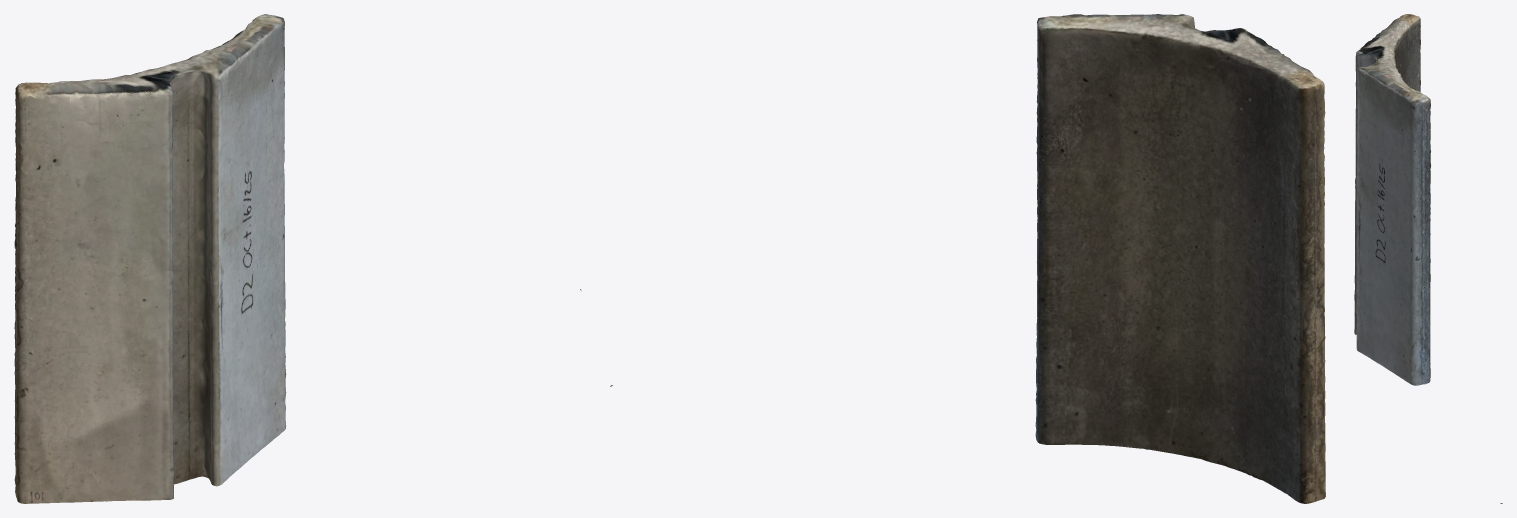
3 renders of one model, left to right at view 1: azimuth 30°, elevation 25°; view 2: azimuth 150°, elevation 25°; view 3: azimuth 270°, elevation 25°, orthographic. The views are drawn at different scales.
Visible parts, largest first — view 1: Node; view 2: Node; view 3: Node.
Part boxes in pixels (box(x1,y1,x2,y2)): Node: box(14, 14, 581, 503); Node: box(610, 14, 1325, 503); Node: box(1354, 14, 1502, 503).
Size of the model in its own units: 0.7642 by 0.4778 by 0.2244.
1 material, 1 textured.
